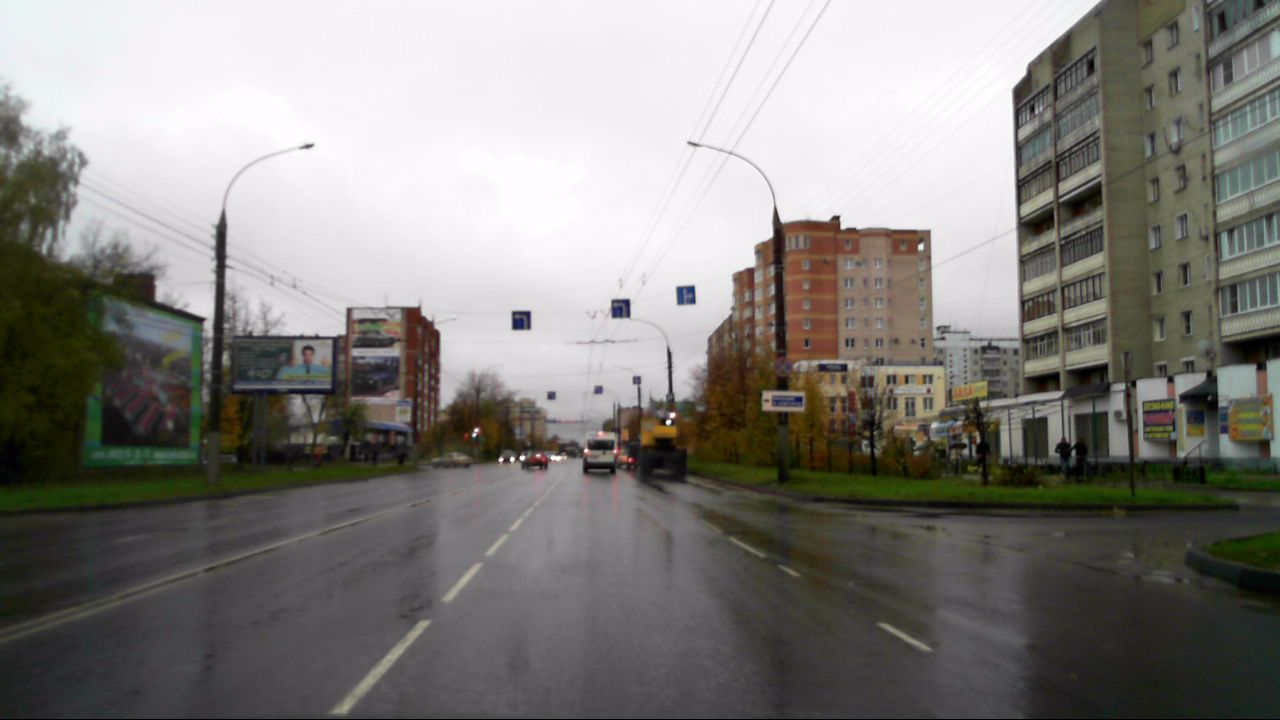No Parking: (774, 357, 793, 377)
